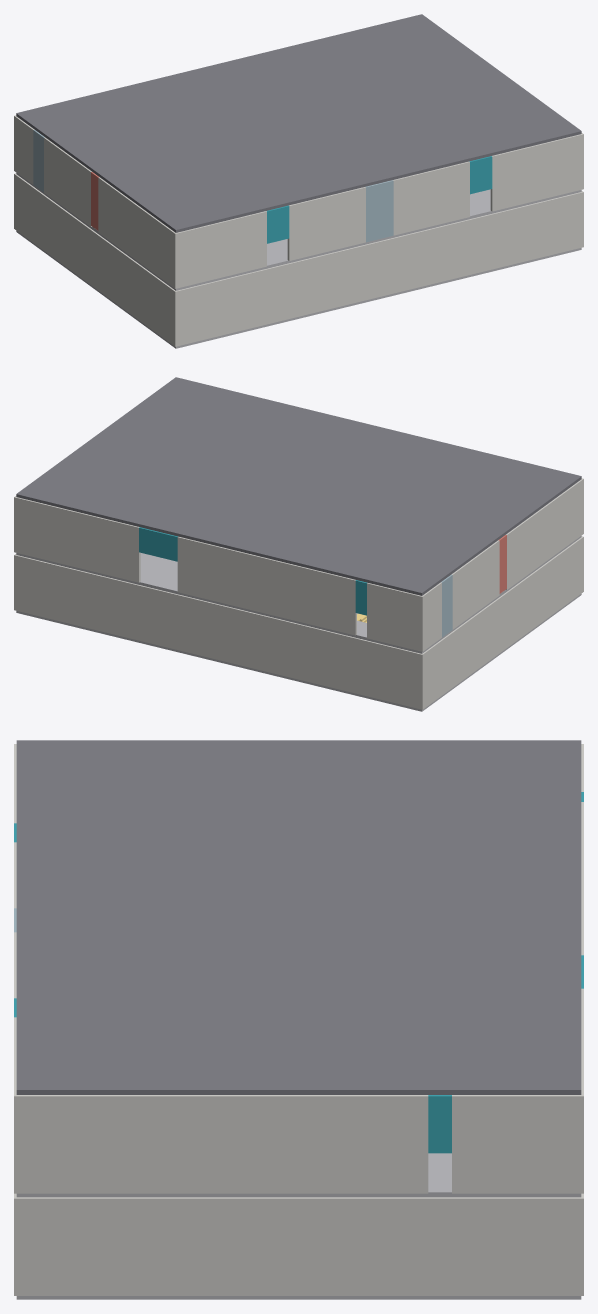
The model's file is market_hall_a02.glb.
The picture shows the model from 3 angles, top to bottom: view 1: azimuth 30°, elevation 25°; view 2: azimuth 150°, elevation 25°; view 3: azimuth 270°, elevation 25°; orthographic projection. The views are drawn at different scales.
Visible parts, largest first — view 1: slab_1_t0_0, slab_1_t0_6, slab_1_t0_7, slab_1_t0_3, slab_1_t0_5, slab_1_t0_8, slab_1_t0_2, slab_1_t0_4, slab_1_t0_1, slab_1_t4_0, slab_1_t1_0, slab_1_t2_0 (+115 smaller); view 2: slab_1_t5_0, slab_1_t5_6, slab_1_t5_7, slab_1_t5_3, slab_1_t5_5, slab_1_t5_8, slab_1_t5_2, slab_1_t5_4, slab_1_t5_1, slab_1_t1_0, slab_1_t4_0, slab_1_t3_0 (+115 smaller); view 3: slab_1_t0_8, slab_1_t5_8, slab_1_t1_8, slab_1_t2_8, slab_1_t3_8, slab_1_t4_8, ext_-1_E_seg0, ext_-1_E_seg5, ext_-1_E_seg8, ext_-1_E_seg13, ext_0_E_seg0, ext_0_E_seg5 (+74 smaller).
Part boxes in pixels (<box>): slab_1_t0_0: <box>149,199,220,232</box>; slab_1_t0_6: <box>420,133,491,166</box>; slab_1_t0_7: <box>465,122,536,155</box>; slab_1_t0_3: <box>285,166,356,199</box>; slab_1_t0_5: <box>375,144,446,177</box>; slab_1_t0_8: <box>510,111,581,144</box>; slab_1_t0_2: <box>240,177,311,210</box>; slab_1_t0_4: <box>330,155,401,188</box>; slab_1_t0_1: <box>195,188,265,221</box>; slab_1_t4_0: <box>42,121,113,154</box>; slab_1_t1_0: <box>122,180,193,212</box>; slab_1_t2_0: <box>96,160,167,193</box>; slab_1_t5_0: <box>377,562,448,595</box>; slab_1_t5_6: <box>106,496,177,529</box>; slab_1_t5_7: <box>61,485,132,518</box>; slab_1_t5_3: <box>241,529,312,562</box>; slab_1_t5_5: <box>151,507,222,540</box>; slab_1_t5_8: <box>16,474,87,507</box>; slab_1_t5_2: <box>286,540,357,573</box>; slab_1_t5_4: <box>196,518,267,551</box>; slab_1_t5_1: <box>332,551,402,584</box>; slab_1_t1_0: <box>484,484,555,517</box>; slab_1_t4_0: <box>404,543,475,575</box>; slab_1_t3_0: <box>430,523,501,556</box>; slab_1_t0_8: <box>16,1051,110,1094</box>; slab_1_t5_8: <box>487,1051,581,1094</box>; slab_1_t1_8: <box>111,1051,204,1094</box>; slab_1_t2_8: <box>205,1051,298,1094</box>; slab_1_t3_8: <box>299,1051,392,1094</box>; slab_1_t4_8: <box>393,1051,486,1094</box>; ext_-1_E_seg0: <box>19,1197,57,1295</box>; ext_-1_E_seg5: <box>207,1197,245,1295</box>; ext_-1_E_seg8: <box>320,1197,358,1295</box>; ext_-1_E_seg13: <box>508,1197,546,1295</box>; ext_0_E_seg0: <box>19,1095,57,1193</box>; ext_0_E_seg5: <box>207,1095,245,1193</box>.
Size of what is drawn, in the model's own units: 44.3 by 12.3 by 30.3.
